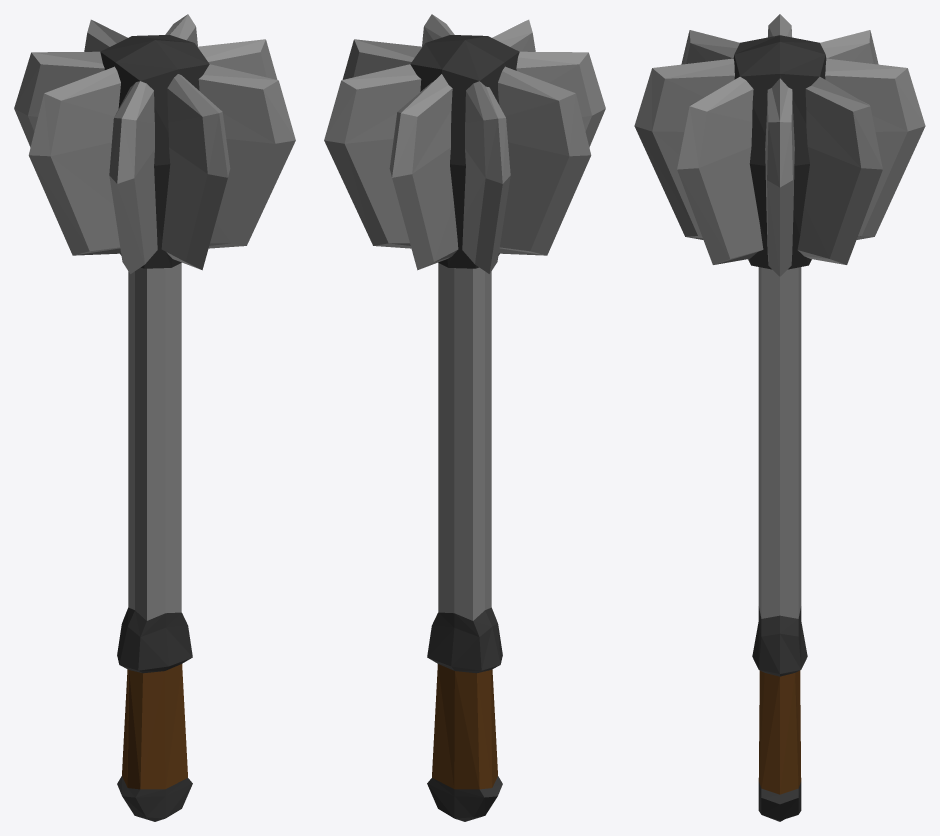
File: scene_VhBgJCV7f7.glb
3 renders of one model, left to right at view 1: azimuth 30°, elevation 25°; view 2: azimuth 150°, elevation 25°; view 3: azimuth 270°, elevation 25°, orthographic.
Parts seen in each view (by area): view 1: Mace_mace_Cube.008; view 2: Mace_mace_Cube.008; view 3: Mace_mace_Cube.008.
Boxes of the visible parts, x1=… form: Mace_mace_Cube.008: x1=14, y1=14, x2=295, y2=821; Mace_mace_Cube.008: x1=324, y1=14, x2=605, y2=821; Mace_mace_Cube.008: x1=634, y1=14, x2=925, y2=821.
Size of the model in its own units: 1.22 by 3.61 by 1.22.
Materials: 1 (1 with a texture image).
